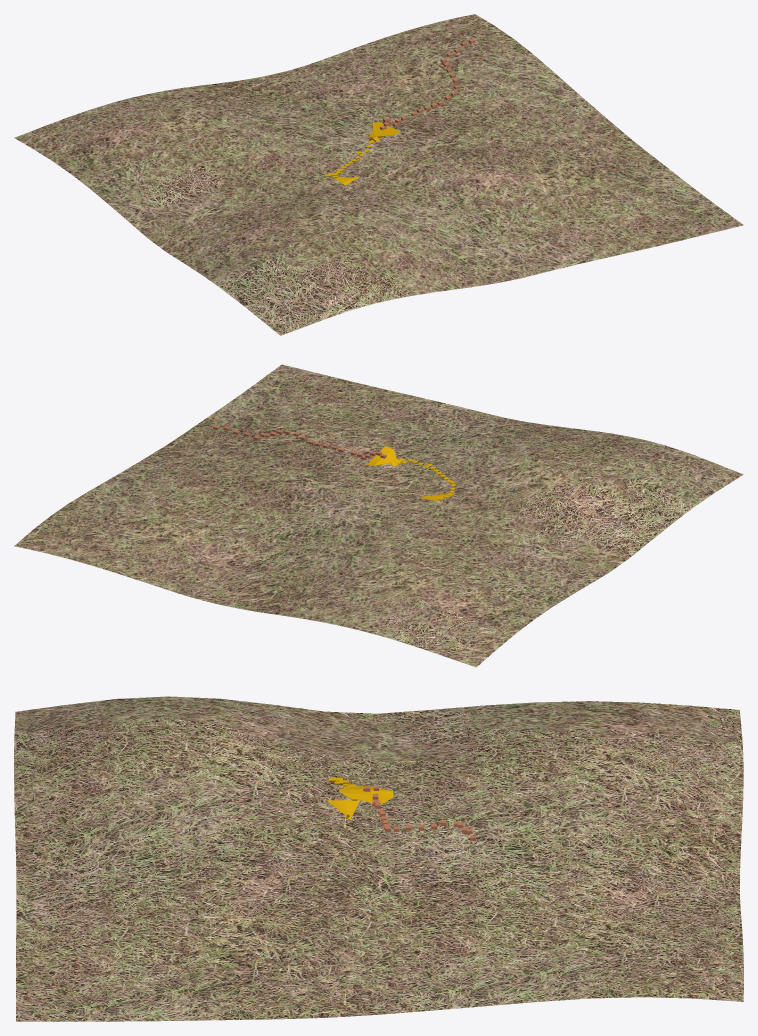
The model's file is aretz.gltf.
The picture shows the model from 3 angles, top to bottom: view 1: azimuth 30°, elevation 25°; view 2: azimuth 150°, elevation 25°; view 3: azimuth 270°, elevation 25°; orthographic projection. The views are drawn at different scales.
Visible parts, largest first — view 1: Plane, Cube.001; view 2: Plane, Cube.001; view 3: Plane, Cube.001.
Part boxes in pixels (x1=…): Plane: x1=14, y1=14, x2=743, y2=335; Cube.001: x1=325, y1=122, x2=400, y2=185; Plane: x1=14, y1=364, x2=743, y2=667; Cube.001: x1=367, y1=446, x2=456, y2=501; Plane: x1=14, y1=696, x2=743, y2=1021; Cube.001: x1=327, y1=777, x2=393, y2=818.
Size of the model in its own units: 384 by 67.88 by 382.
Materials: 3 (2 with a texture image).
